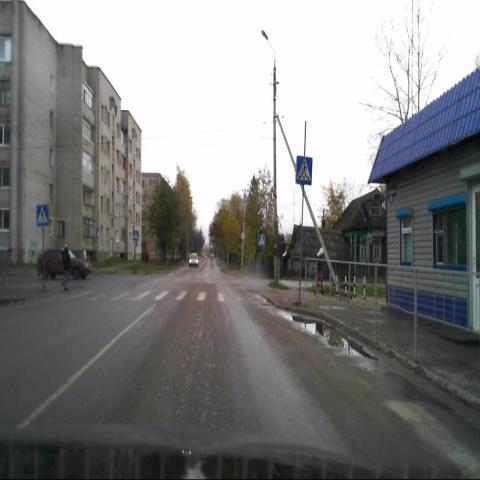5_19_1: (296, 155, 312, 187), (37, 204, 49, 228), (258, 235, 265, 248), (132, 230, 138, 241)
